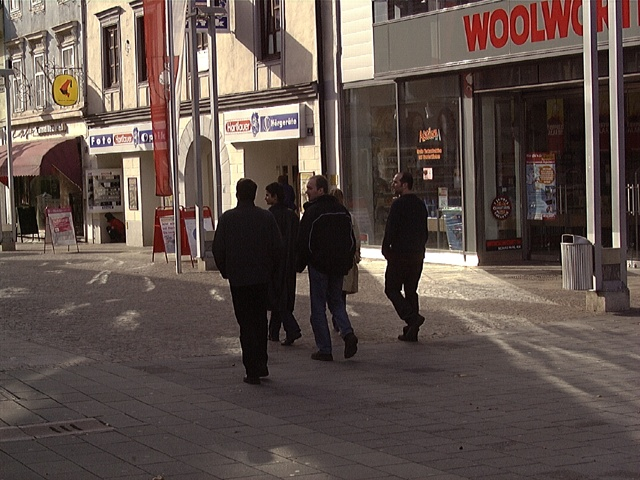person: (215, 176, 282, 384), (293, 172, 360, 363), (383, 167, 428, 341)
